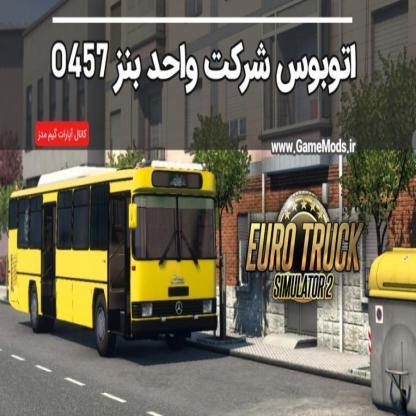Bus: (4, 153, 223, 362)
